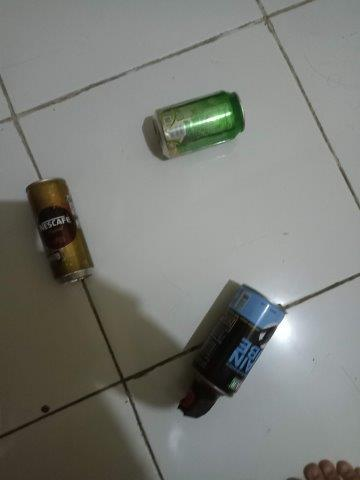kaleng: (192, 283, 289, 399), (25, 177, 94, 287), (152, 90, 246, 160)
